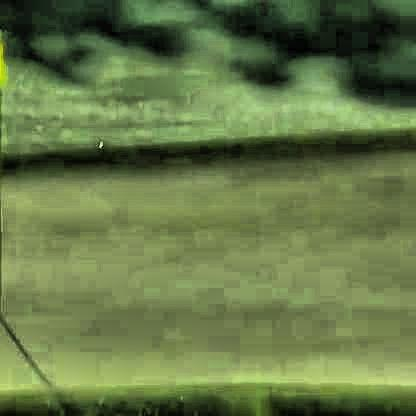golfball: (96, 135, 101, 145)
